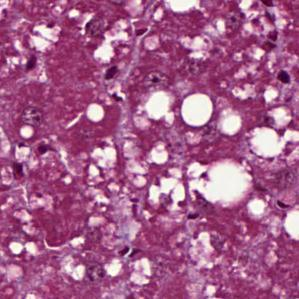ballooning: (184, 154, 255, 209)
